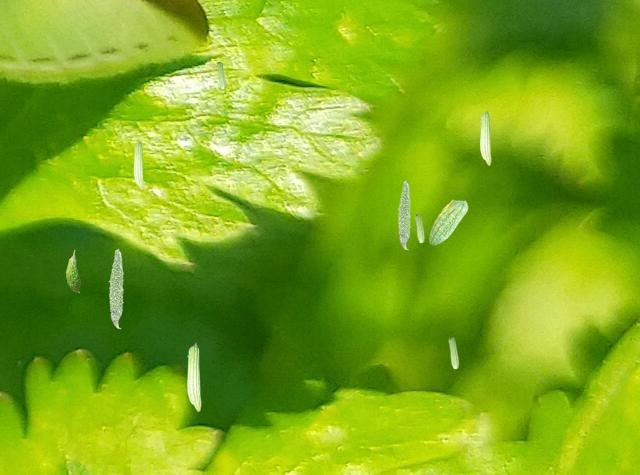ampalaya: (428, 199, 468, 245), (108, 248, 124, 329), (186, 342, 201, 411), (397, 180, 411, 250), (479, 109, 491, 165), (65, 249, 80, 293), (133, 140, 144, 190), (448, 337, 459, 369), (414, 213, 424, 243), (216, 61, 226, 89)
